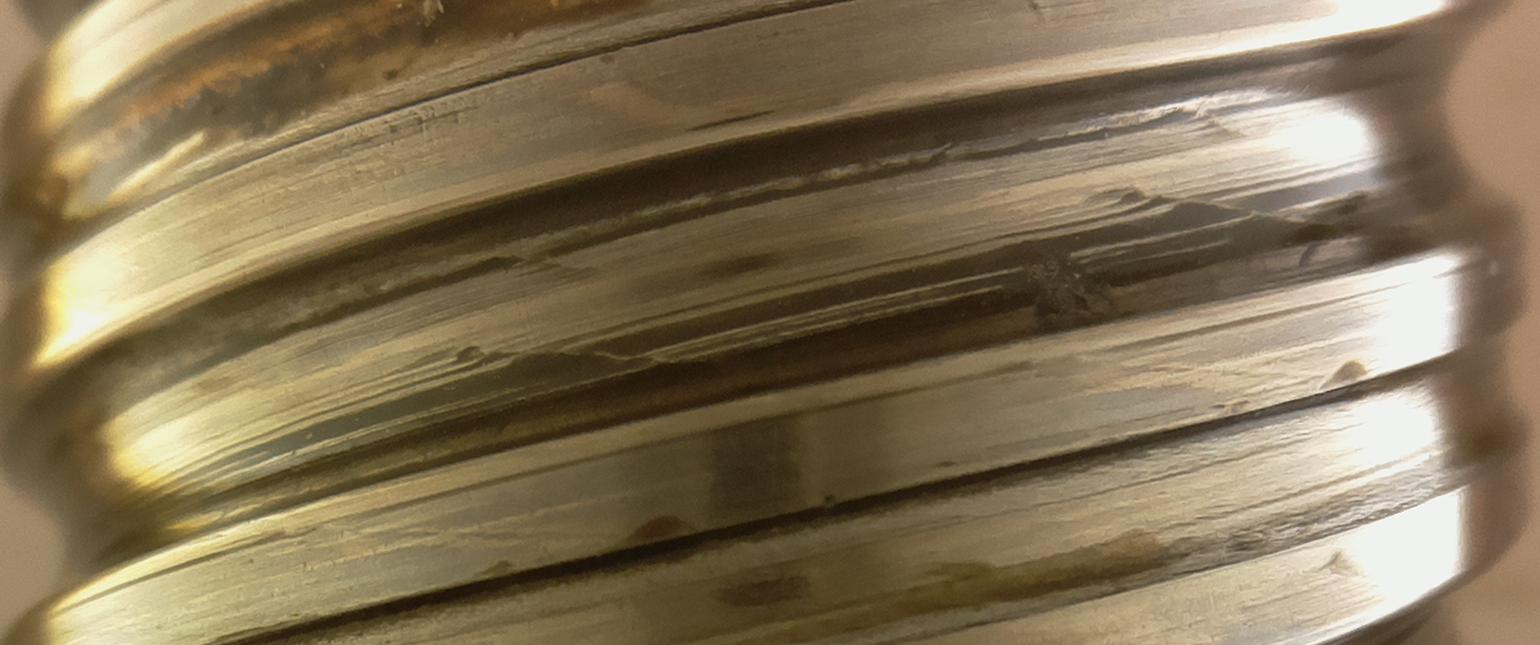pitting: (1019, 242, 1112, 318)
